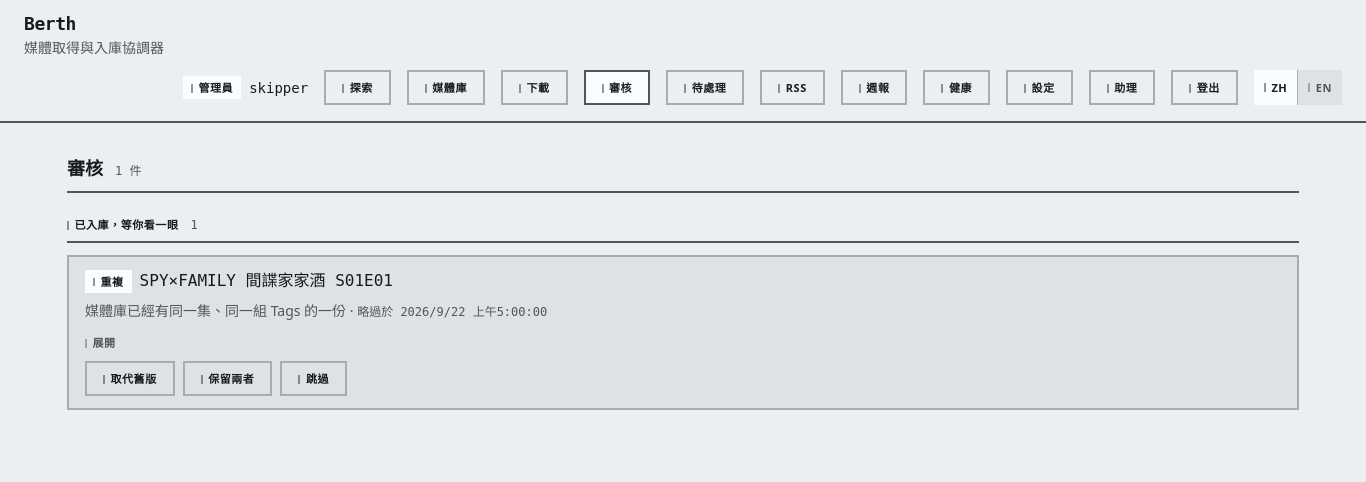
it: 重複版本 › 另一個分頁先決定了：說理由，重問一次佇列
The image size is (1366, 482).
Click the button "跳過". click: (314, 378)
box: [280,361,347,396]
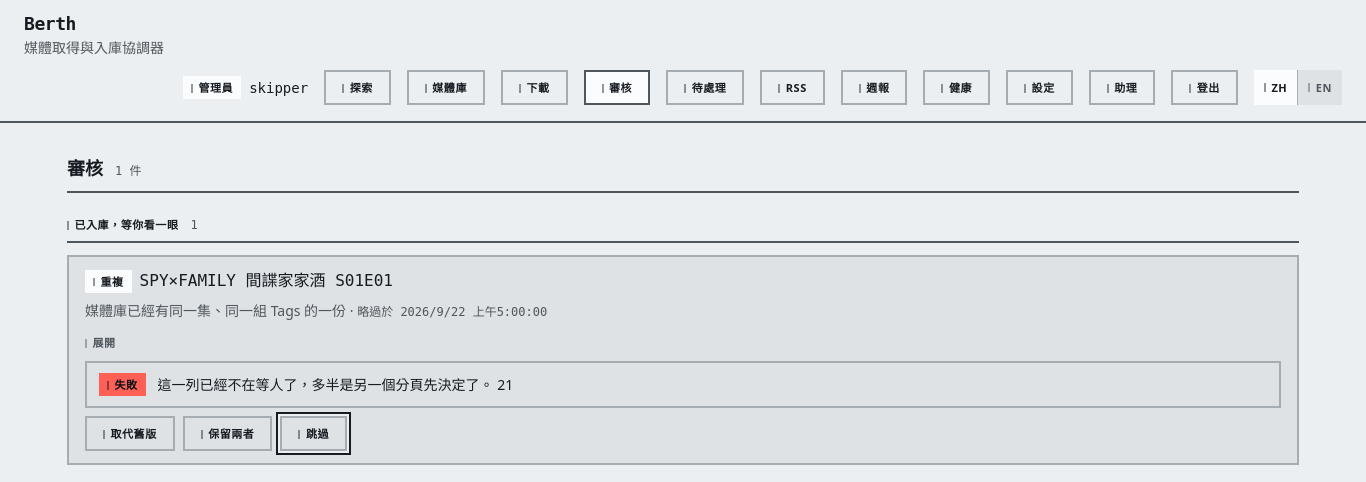
Expected: the text "這一列已經不在等人了，多半是另一個分頁先決定了。 21" is shown, [158,374,513,394]
